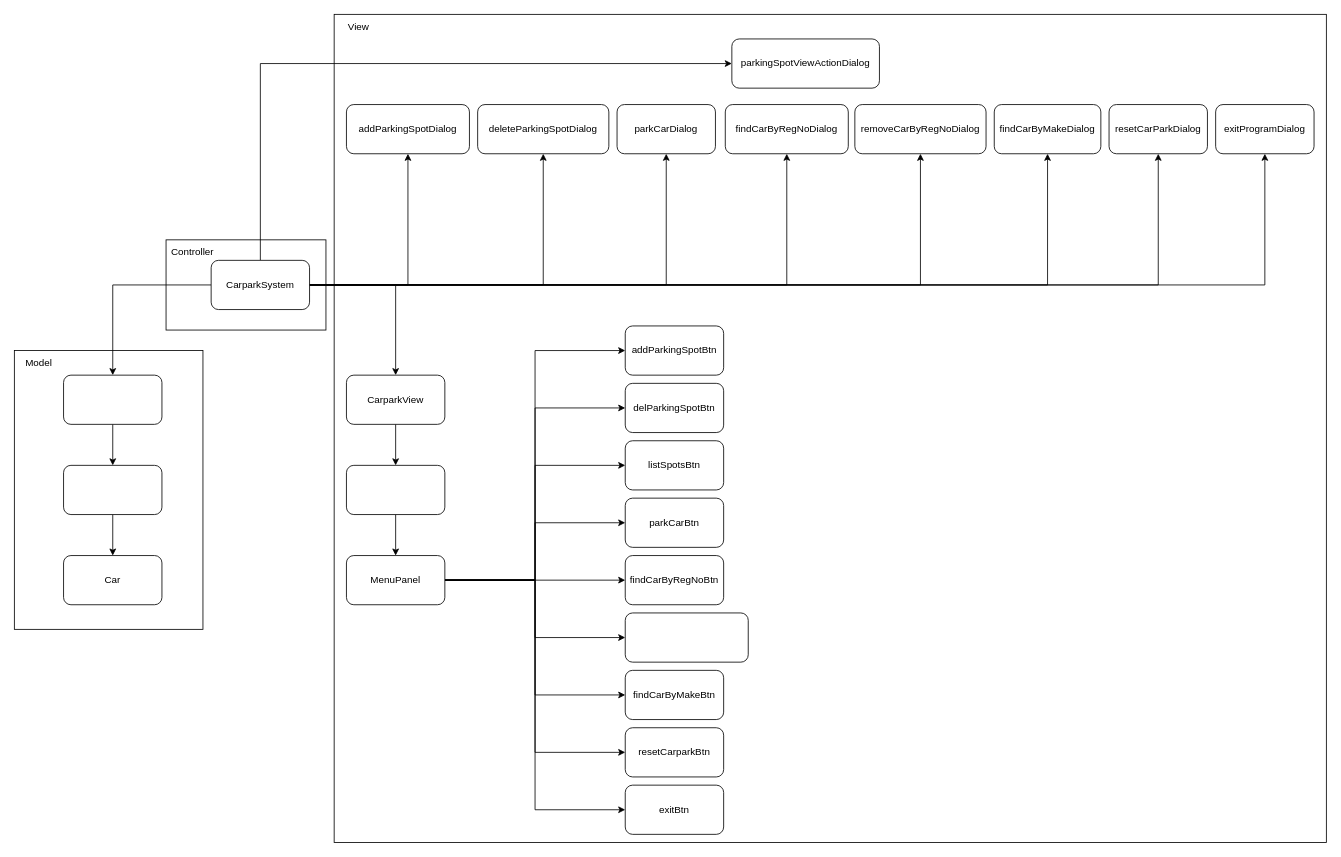
Image size: 1341x857. Some labels were removed from this diagram. The box of each missing label's shape, as (x1, y1, x2, y2) in pixels:
CarPark: (63, 374, 162, 424)
ParkingSpot: (63, 465, 162, 515)
ParkingSpotView: (346, 465, 445, 515)
removeCarByRegNoBtn: (624, 612, 748, 662)
